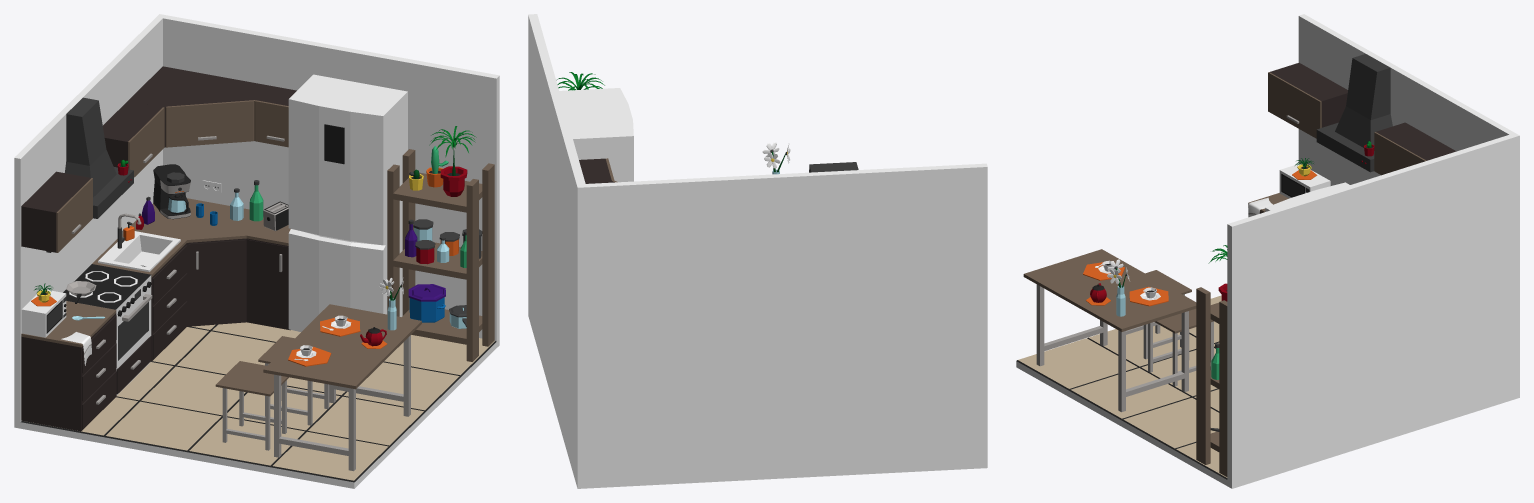
File: Kitchen.fbx
3 views of the same model, side by side, from view 1: azimuth 30°, elevation 25°; view 2: azimuth 150°, elevation 25°; view 3: azimuth 270°, elevation 25° (orthographic). The views are drawn at different scales.
Parts seen in each view (by area): view 1: Kitchen_Base, Kitchen_Tile_Foor, Kitchen_Refrigerator, Kitchen_Cabinet3, Kitchen_Rack, Kitchen_Cabinet, Kitchen_Cabinet7, Kitchen_Table, Kitchen_Cabinet2, Kitchen_Electric_Stove1, Kitchen_Cabinet4, Kitchen_Hood (+8 smaller); view 2: Kitchen_Base, Kitchen_Refrigerator, Kitchen_Cabinet7; view 3: Kitchen_Base, Kitchen_Tile_Foor, Kitchen_Table, Kitchen_Hood, Kitchen_Rack, Kitchen_Cabinet4, Kitchen_Cabinet6, Kitchen_Chair2, Kitchen_Microwave, Kitchen_Chair1.
Part boxes in pixels (x1,y1,x2,y2): Kitchen_Base: (14, 14, 499, 488); Kitchen_Tile_Foor: (21, 322, 496, 482); Kitchen_Refrigerator: (288, 74, 407, 331); Kitchen_Cabinet3: (130, 198, 290, 330); Kitchen_Rack: (387, 149, 494, 361); Kitchen_Cabinet: (21, 301, 116, 431); Kitchen_Cabinet7: (128, 66, 296, 147); Kitchen_Table: (263, 304, 421, 471); Kitchen_Cabinet2: (92, 230, 187, 361); Kitchen_Electric_Stove1: (63, 264, 152, 395); Kitchen_Cabinet4: (21, 171, 92, 252); Kitchen_Hood: (65, 97, 133, 218); Kitchen_Base: (528, 14, 987, 488); Kitchen_Refrigerator: (559, 88, 633, 182); Kitchen_Cabinet7: (579, 158, 617, 183); Kitchen_Base: (1016, 14, 1519, 488); Kitchen_Tile_Foor: (1016, 295, 1227, 479); Kitchen_Table: (1023, 249, 1196, 412); Kitchen_Hood: (1316, 54, 1392, 172); Kitchen_Rack: (1196, 287, 1227, 476); Kitchen_Cabinet4: (1268, 62, 1347, 138); Kitchen_Cabinet6: (1374, 122, 1456, 175); Kitchen_Chair2: (1148, 309, 1213, 386); Kitchen_Microwave: (1279, 164, 1330, 198); Kitchen_Chair1: (1126, 270, 1191, 359).
Bounding box in the file's own units: 700 × 402 × 700.
